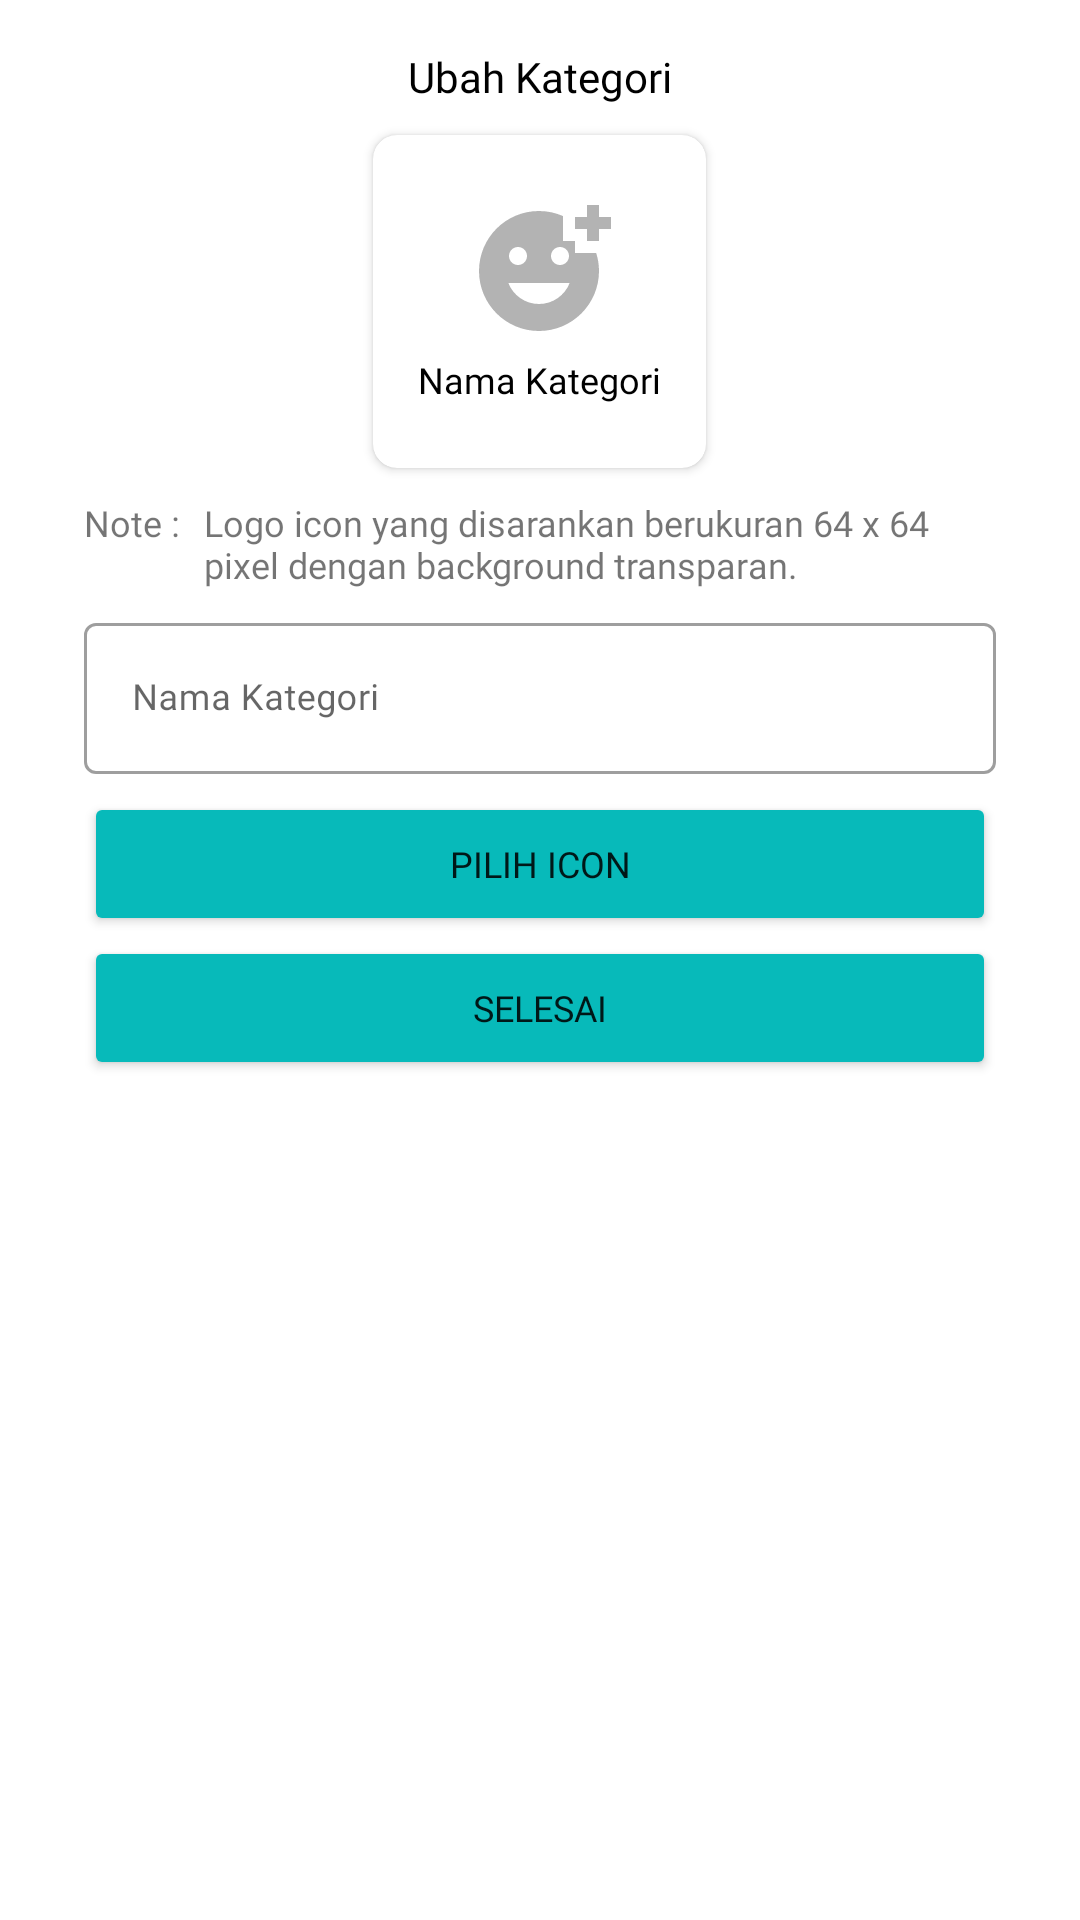

Point at icon controls on the screen. Image size 1080px×1920px, points as (x=x, y=y).
add: (x=545, y=268)
